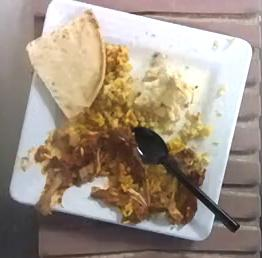naan: (27, 10, 105, 118)
rice: (80, 45, 159, 133)
rice_mix: (91, 147, 176, 223)
